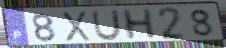2: (156, 5, 186, 43)
8: (189, 8, 217, 38), (31, 12, 57, 43)
H: (120, 8, 158, 42)
U: (90, 9, 123, 42)
X: (59, 11, 93, 42)
